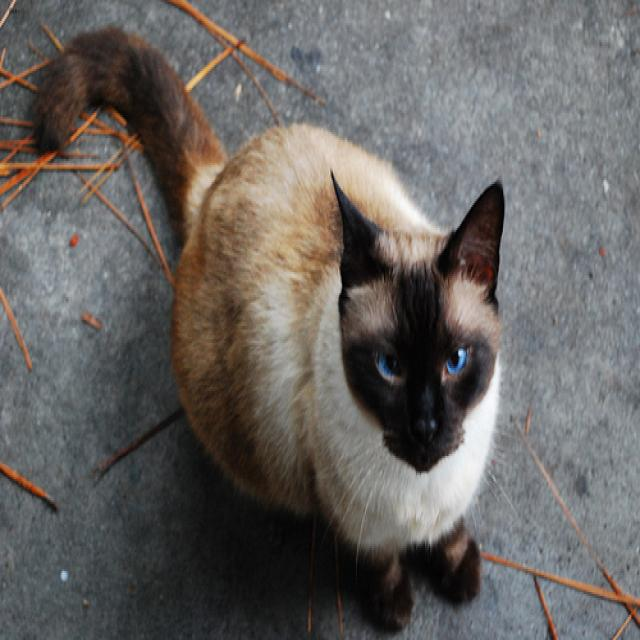cat: (329, 168, 502, 470)
